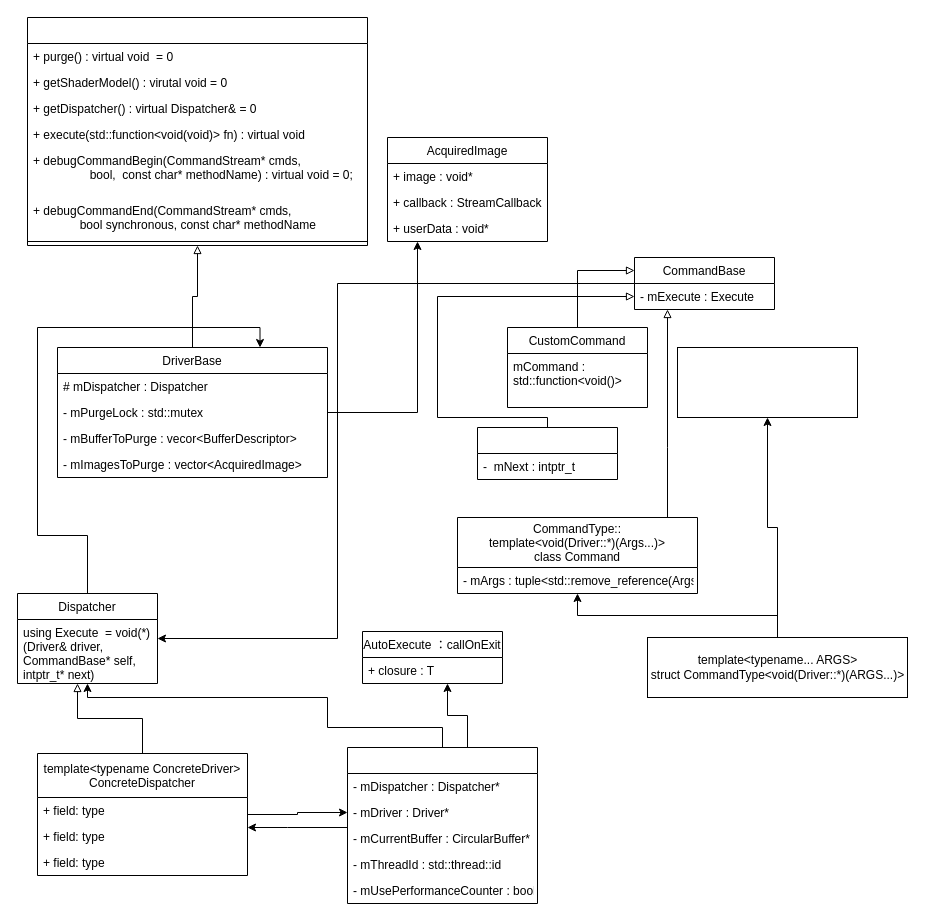
Some shapes in this 925 by 924 pixel diagram are drawn without their labels. The box of each missing label's shape, as (x1, y1, x2, y2) in pixels:
CommandStream: (346, 746, 538, 904)
Driver: (26, 16, 368, 246)
NoopCommand: (476, 426, 618, 480)
template <typename ... Args> struct CommandType: (676, 346, 858, 418)
